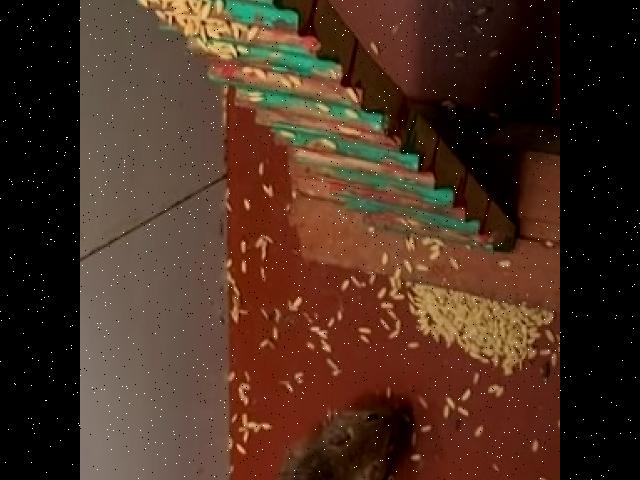Tikus: (272, 402, 416, 480)
